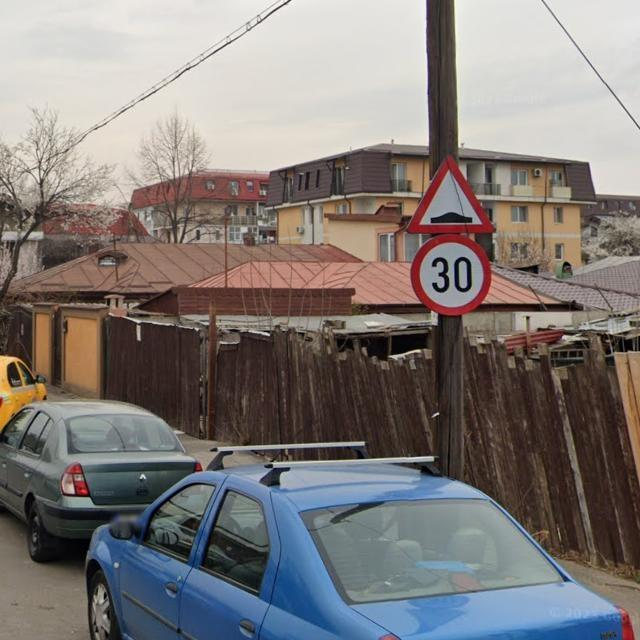forb_speed_over_30: (414, 238, 493, 318)
